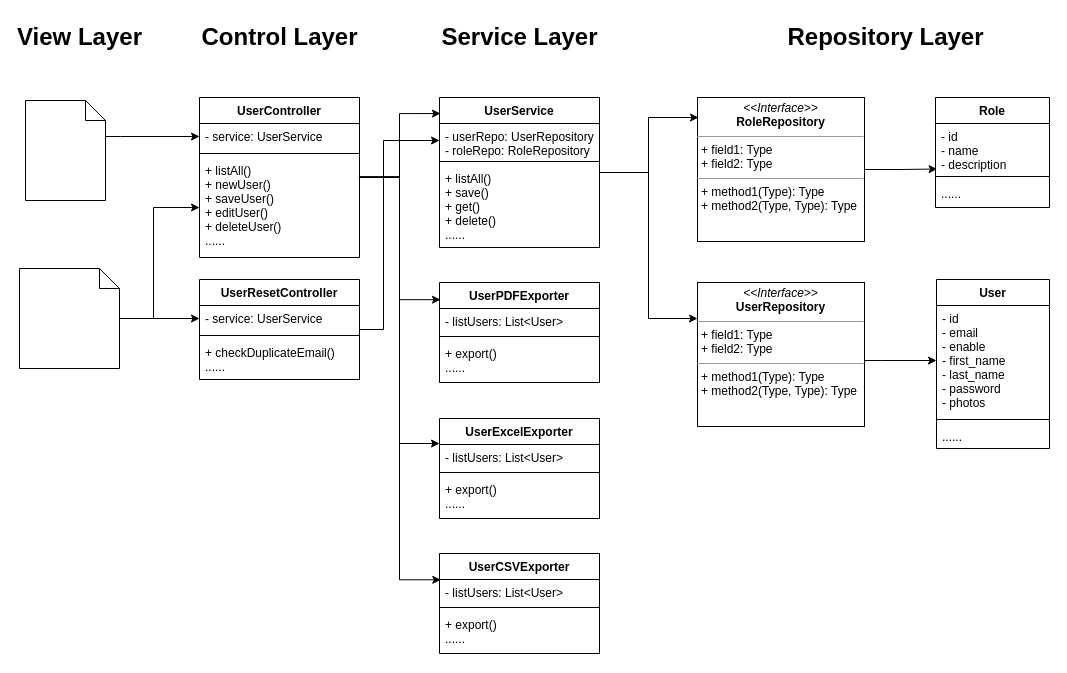
Image size: 1067x673. Some labels were removed from this diagram. The shapes that lost their labels are listed below. From the top down, each one's centre as x and y in pixels, then its label:
pixel 65 150: users.html
pixel 69 318: user_form.html
